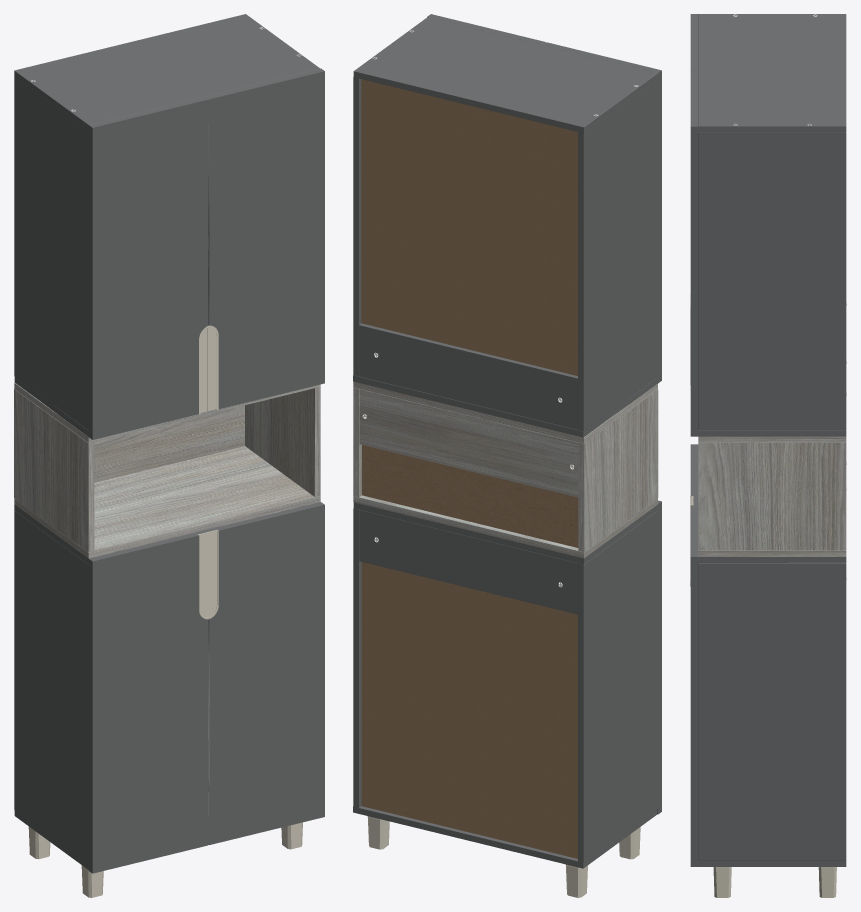
The picture shows the model from 3 angles, left to right: view 1: azimuth 30°, elevation 25°; view 2: azimuth 150°, elevation 25°; view 3: azimuth 270°, elevation 25°; orthographic projection.
Visible parts, largest first — view 1: group_0.003, group_0.467, group_0.133, Plane, group_0.115, group_0.001; view 2: group_0.003, group_0.369, group_0.002, group_0.467, group_0.133, Plane.001, group_0.115; view 3: group_0.003, group_0.467, group_0.133, group_0.115.
Boxes of the visible parts, x1,y1,x2,y2 form: group_0.003: [14, 14, 324, 439]; group_0.467: [14, 502, 324, 873]; group_0.133: [14, 382, 320, 558]; Plane: [94, 405, 244, 482]; group_0.115: [28, 529, 302, 897]; group_0.001: [199, 325, 218, 414]; group_0.003: [353, 14, 661, 437]; group_0.369: [361, 562, 577, 858]; group_0.002: [361, 79, 577, 375]; group_0.467: [353, 500, 661, 868]; group_0.133: [353, 381, 658, 558]; Plane.001: [362, 414, 578, 547]; group_0.115: [367, 816, 640, 897]; group_0.003: [690, 14, 846, 436]; group_0.467: [690, 444, 846, 866]; group_0.133: [698, 436, 846, 556]; group_0.115: [690, 496, 836, 897].
Size of the model in its own units: 0.7013 by 2.25 by 0.4114.
Materials: 6 (3 with a texture image).
